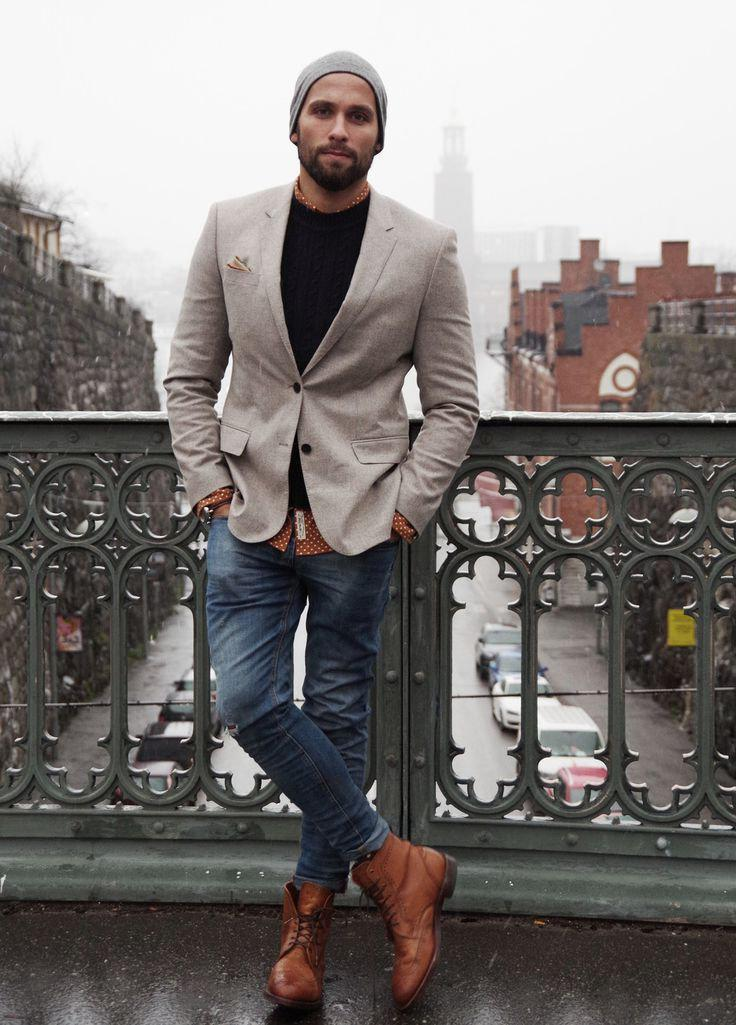Sober: (301, 72, 377, 177)
